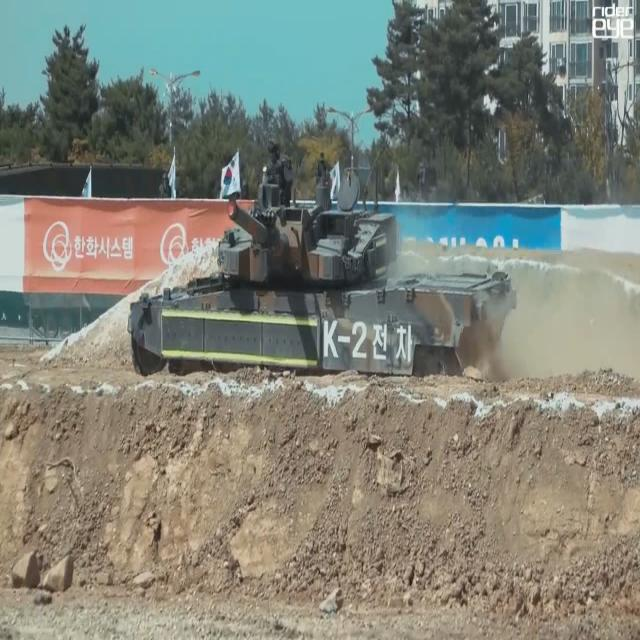korea tank: (126, 136, 518, 391)
